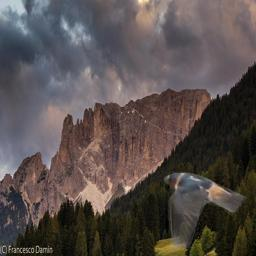Swallow: (164, 169, 247, 248)
